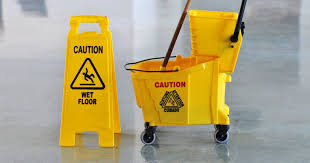wet caution sign: (53, 8, 124, 151)
